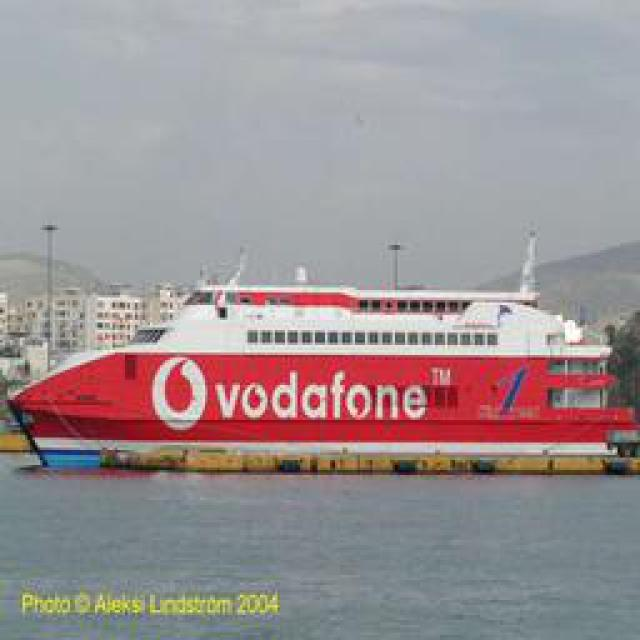Ship: (15, 240, 635, 465)
